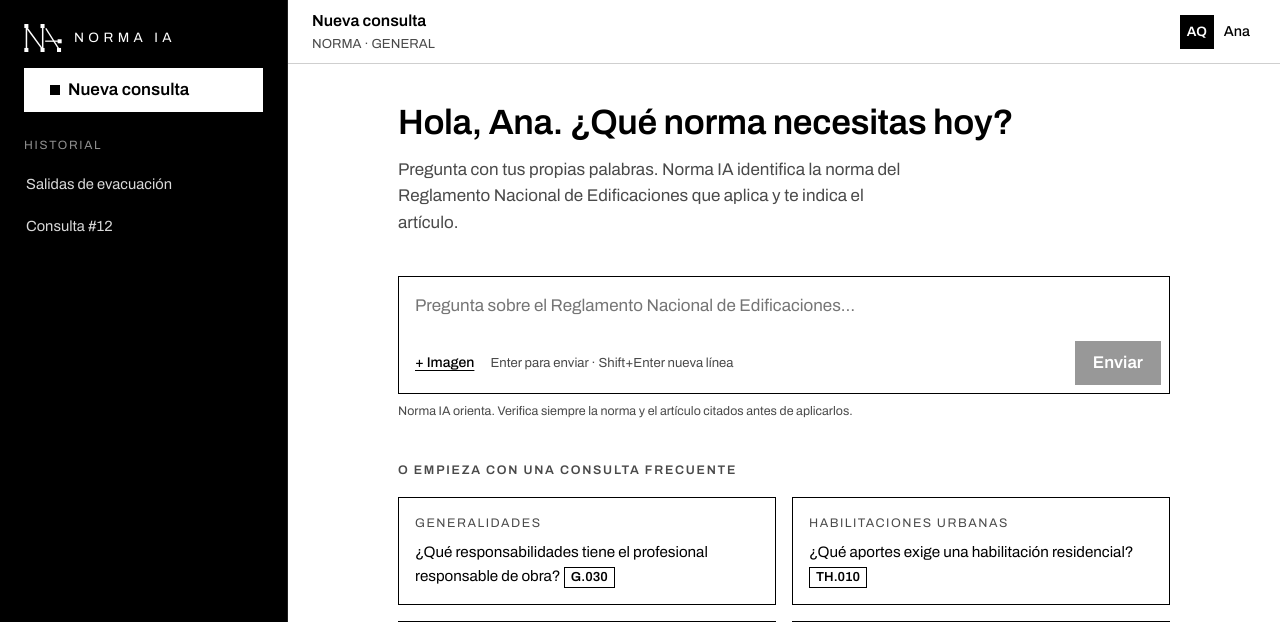
Test: chat del usuario final › el logo vuelve al home del chat sin salir de la sesión
Step 1. Click the button "Salidas de evacuación" → (144, 184), box [8,163,279,205]
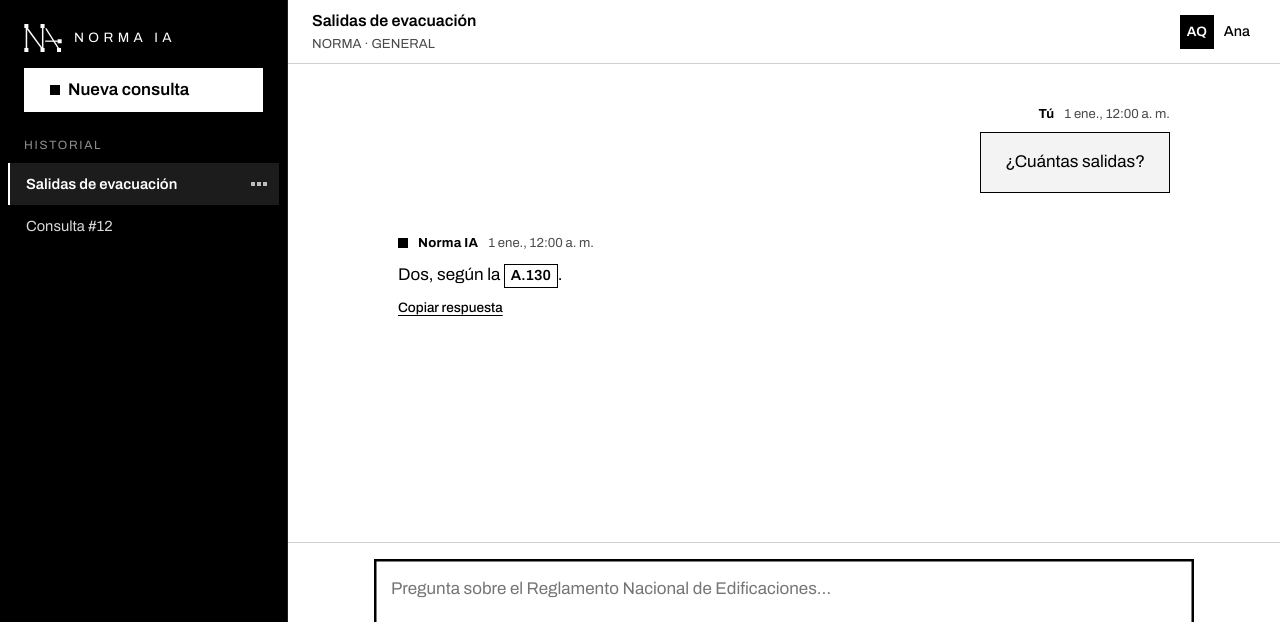
Expected: the text "¿Cuántas salidas?" is shown, [980,132,1170,193]
Step 2. Click the button with aria-label "Norma IA, inicio de consultas" → (100, 38), box [24,24,176,52]
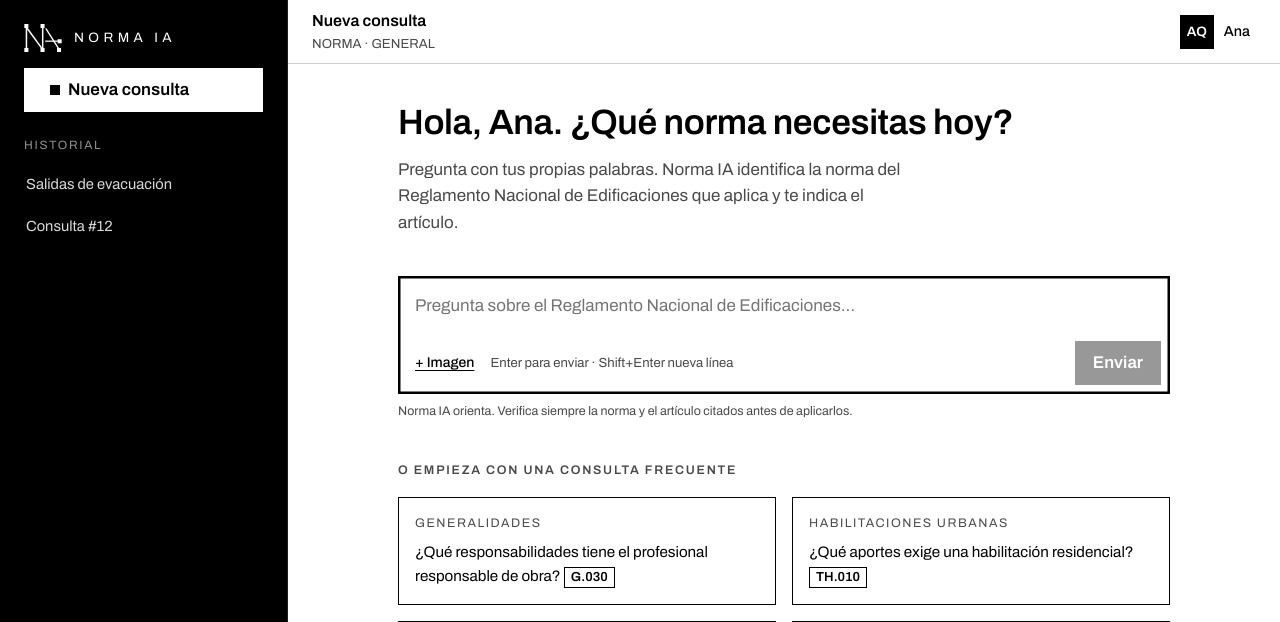
Expected: the heading "Hola, Ana. ¿Qué norma necesitas hoy?" is shown, [398,103,1013,141]
